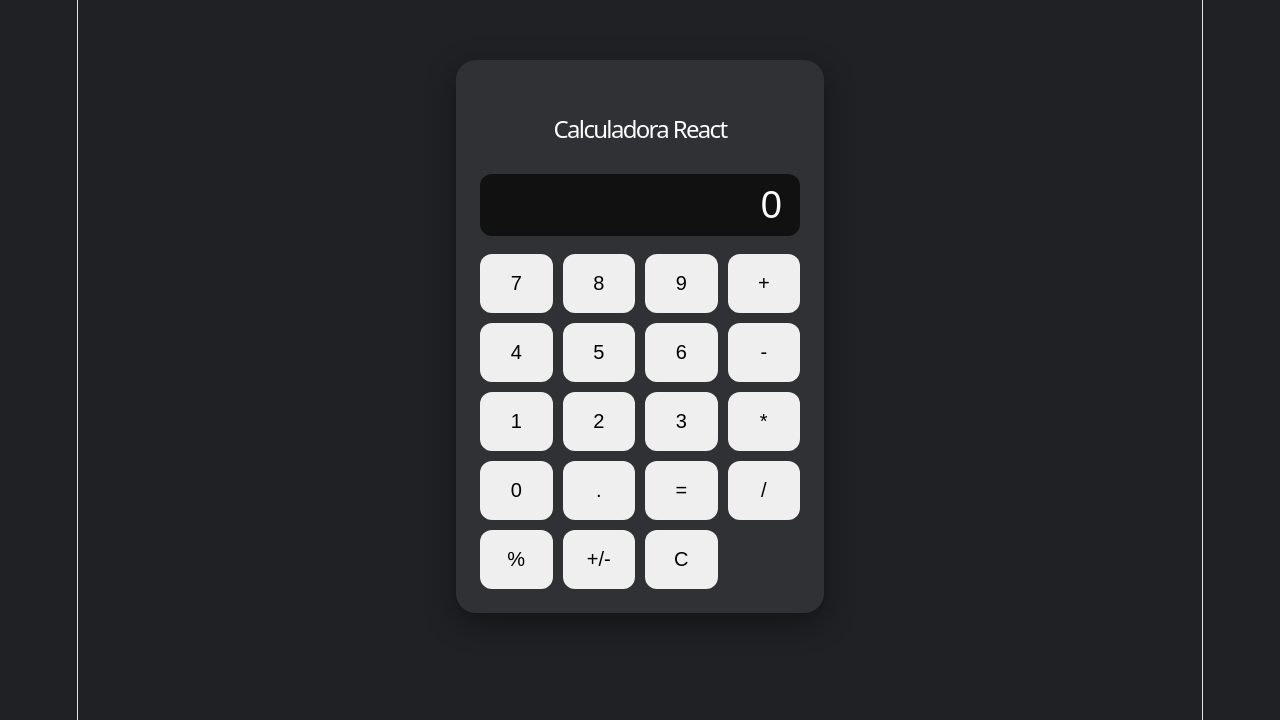
Test: permite usar punto decimal
The width and height of the screenshot is (1280, 720).
Step 1. Click the button named "Botón 1" → click(516, 422), box [480, 392, 552, 451]
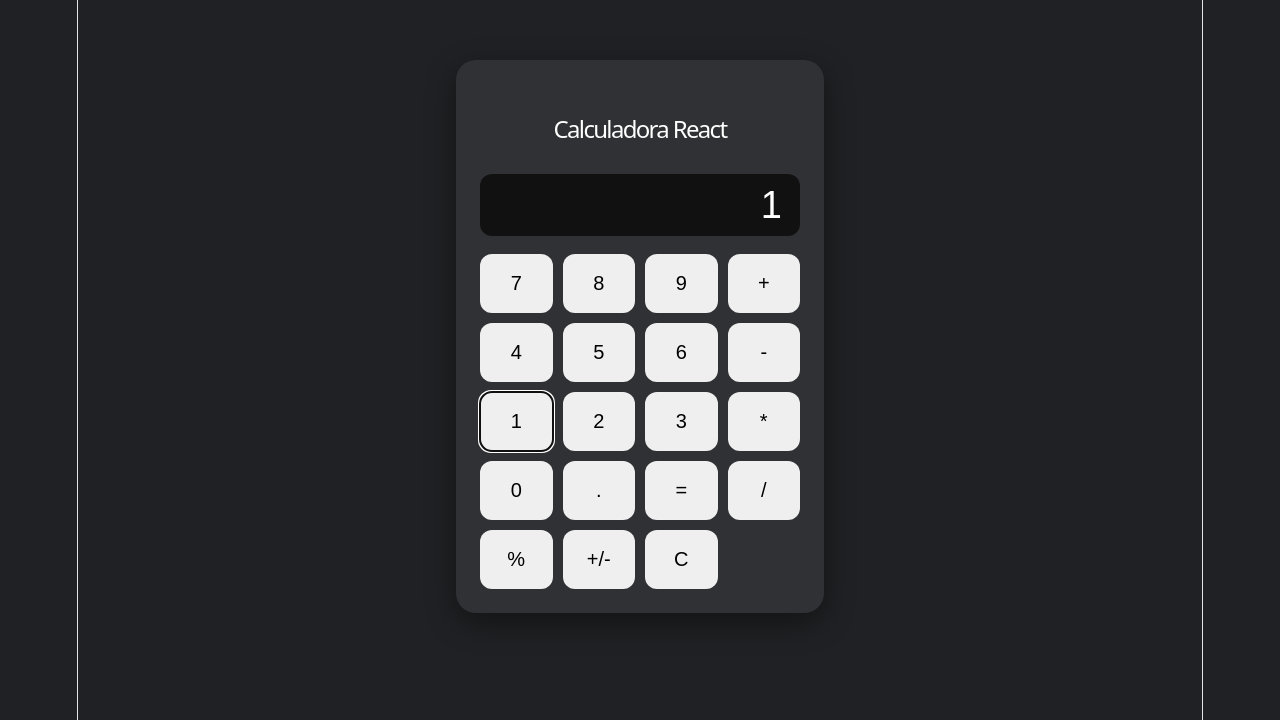
Step 2. Click the button named "Botón ." → click(599, 491), box [562, 461, 635, 520]
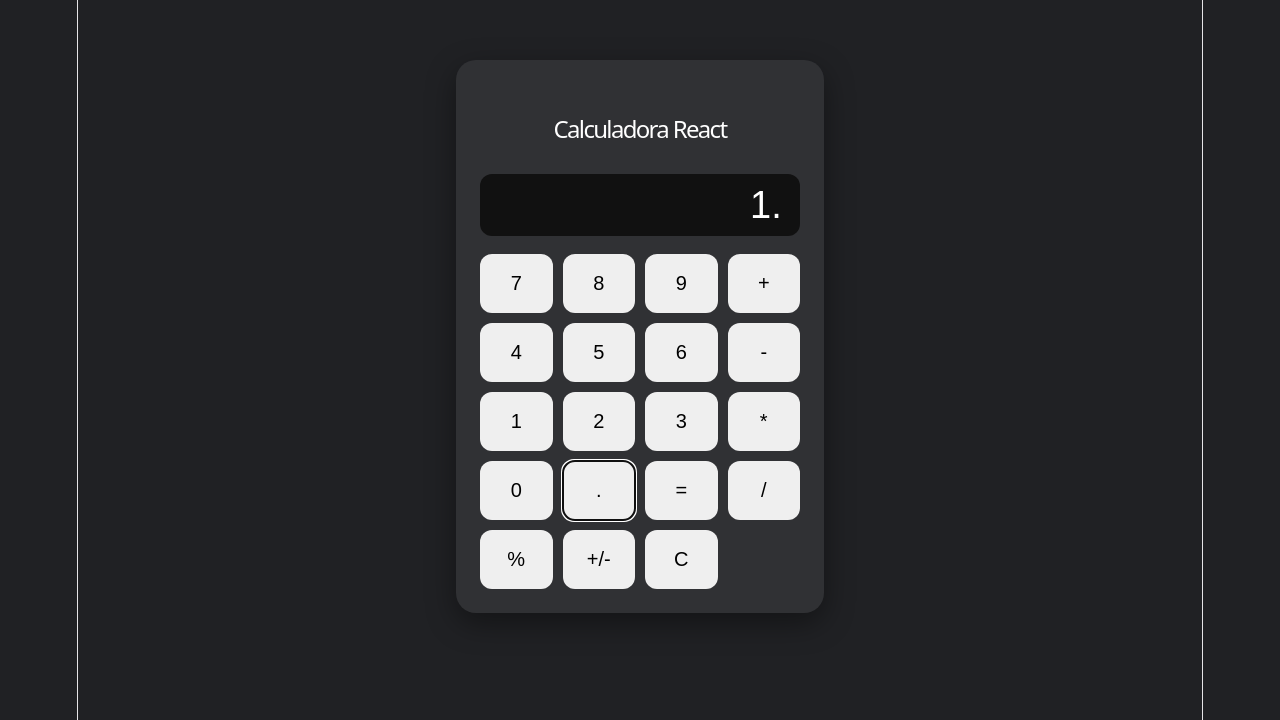
Step 3. Click the button named "Botón 5" → click(599, 353), box [562, 323, 635, 382]
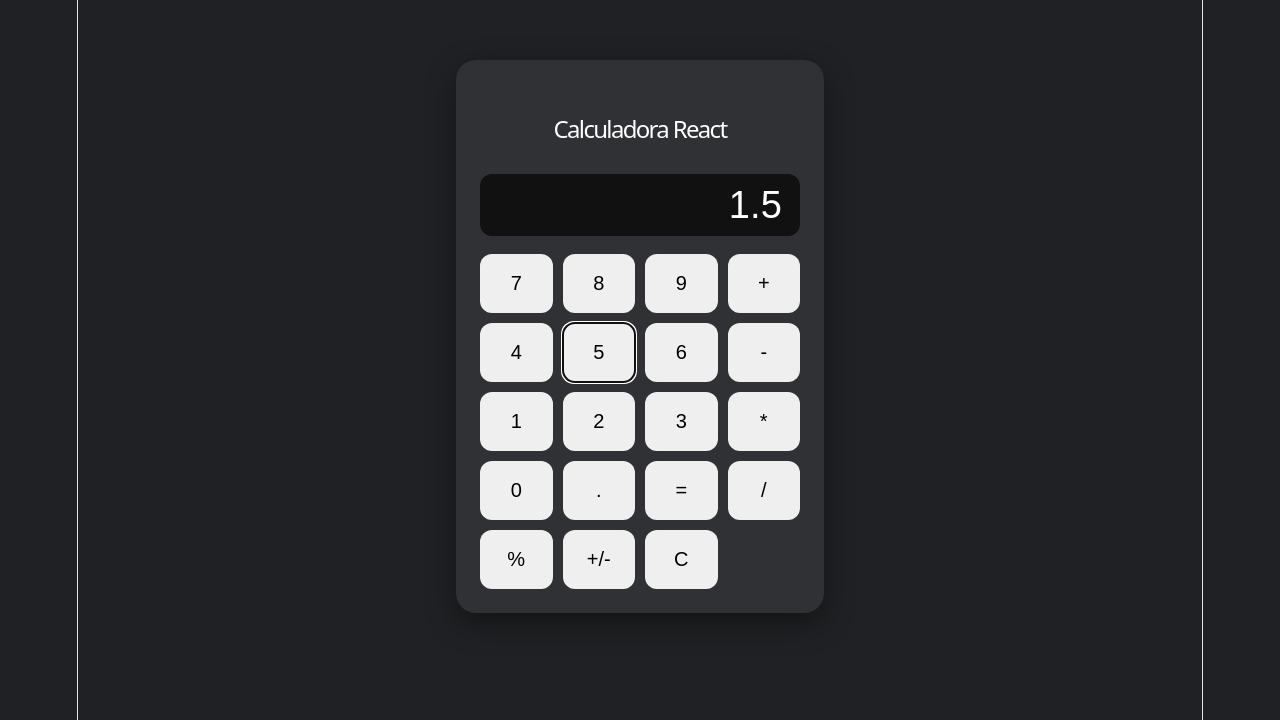
Now the text "1.5" is shown, box [480, 174, 800, 236]
